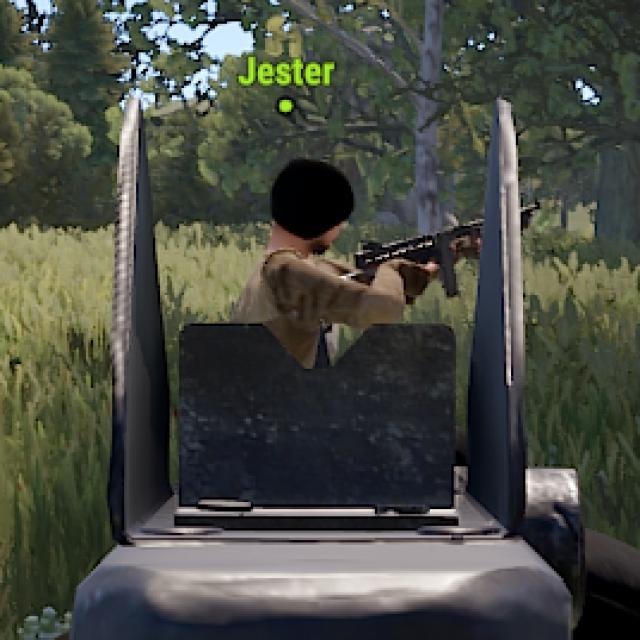Player: (236, 162, 430, 320)
